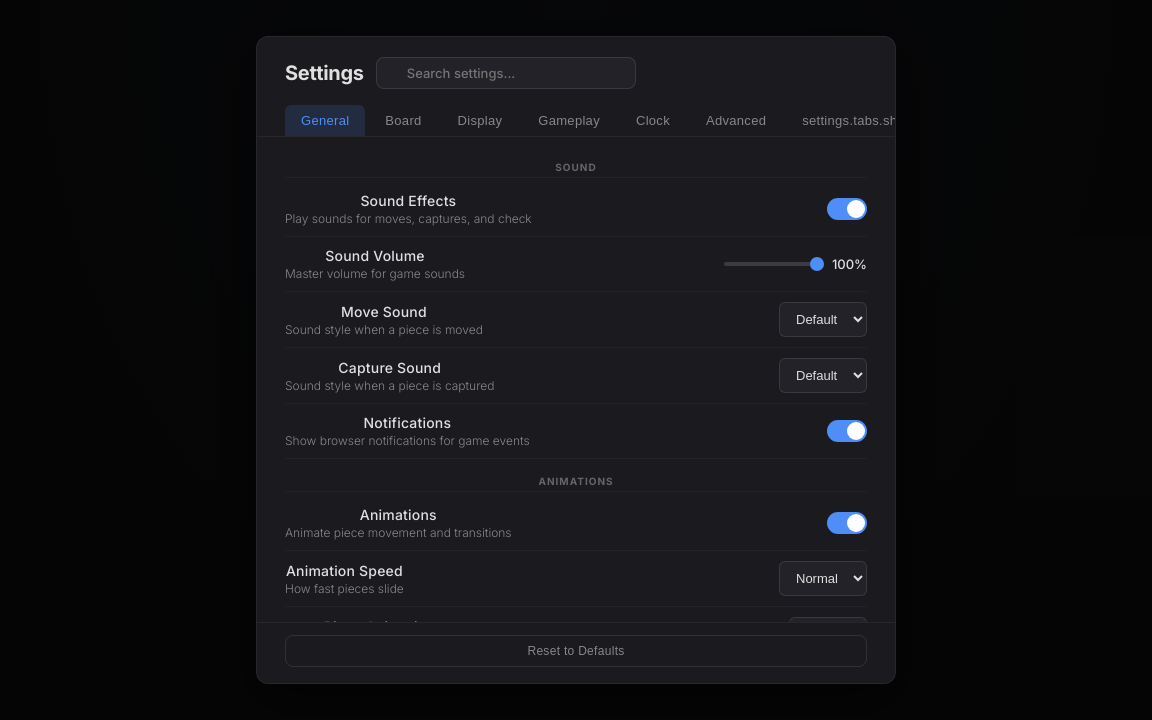
SettingsDialog › switches to gameplay tab on click
Click the button "Gameplay". click: click(569, 120)
box: [522, 105, 616, 136]
(page scrolled)
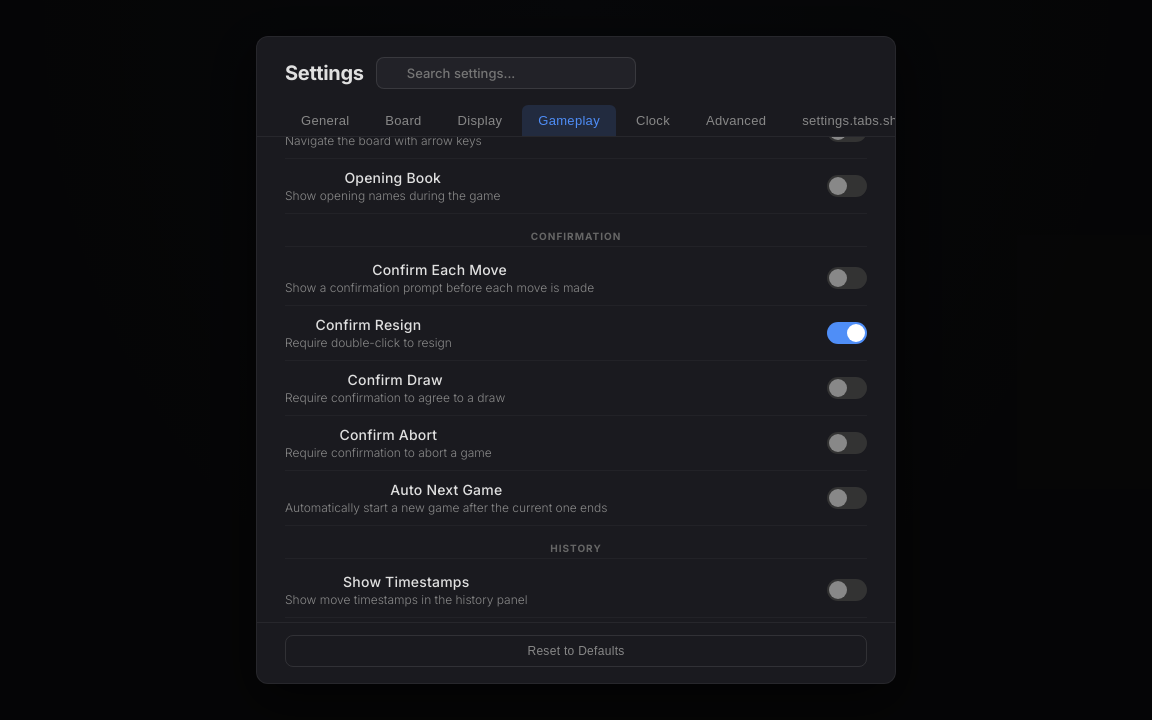
expect the text "Confirm Resign" is shown: met, box [316, 316, 421, 333]
expect the text "Confirm Draw" is shown: met, box [348, 371, 443, 388]
